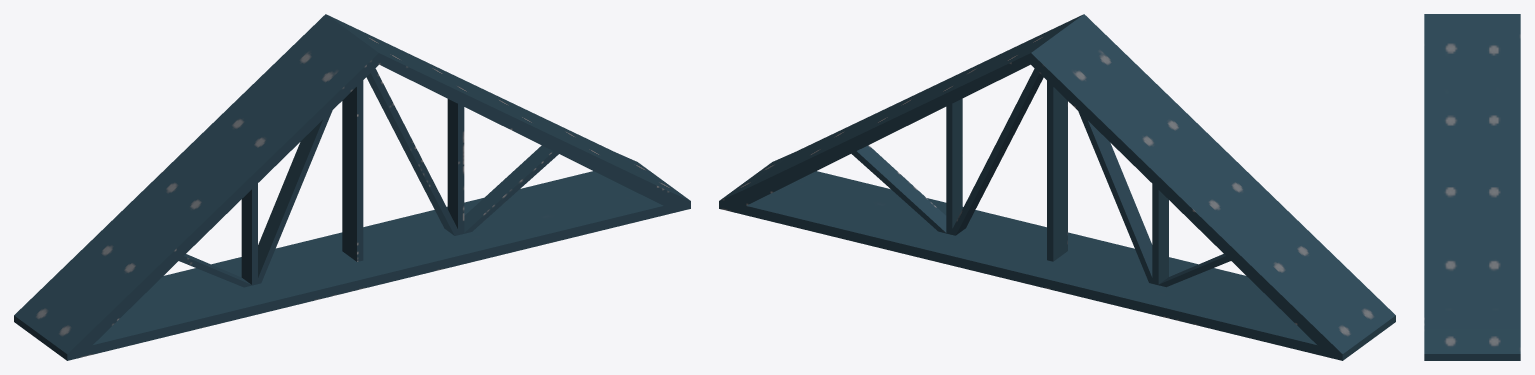
File: metal_beams.fbx
3 views of the same model, side by side, from view 1: azimuth 30°, elevation 25°; view 2: azimuth 150°, elevation 25°; view 3: azimuth 270°, elevation 25° (orthographic). The views are drawn at different scales.
Parts seen in each view (by area): view 1: Soporte_1, Vigas_1; view 2: Soporte_1, Vigas_1; view 3: Soporte_1.
Part boxes in pixels (x1=…): Soporte_1: x1=14, y1=14, x2=690, y2=360; Vigas_1: x1=179, y1=68, x2=558, y2=287; Soporte_1: x1=719, y1=14, x2=1395, y2=360; Vigas_1: x1=851, y1=68, x2=1230, y2=287; Soporte_1: x1=1424, y1=14, x2=1520, y2=360.
Bounding box in the file's own units: 20011 × 7113 × 2959.
1 material, 1 textured.
